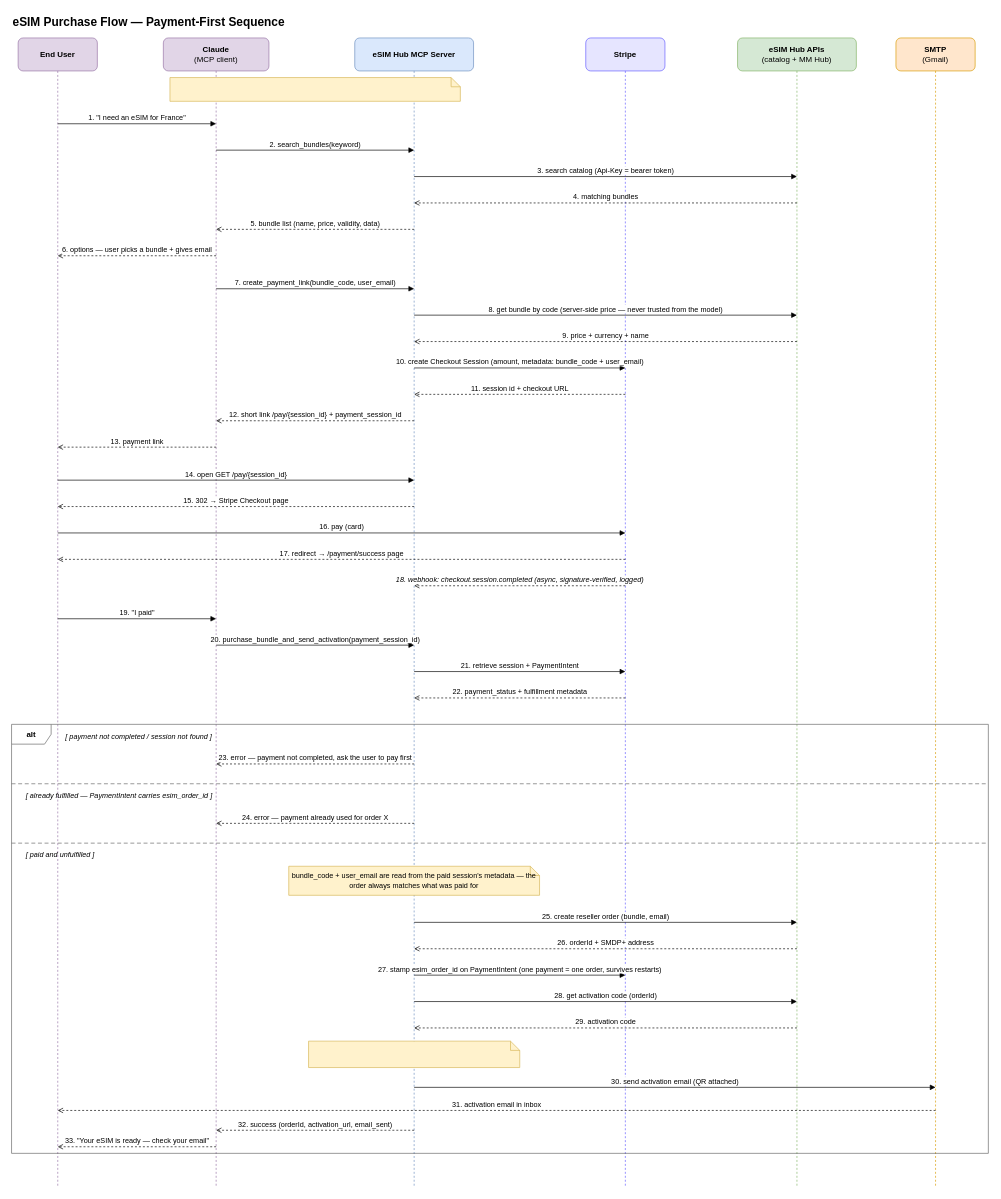
Image size: 1001x1199. Some labels were removed from this diagram. The shapes that lost their labels are listed below. From the top down, each one's box as (x1, y1, x2, y2) in pixels, then its label:
(169, 77, 460, 101): Connected via OAuth pass-through — bearer token = user's mm-hub API key
(308, 1040, 520, 1068): build LPA activation URL (LPA:1$smdp$code) + QR image
